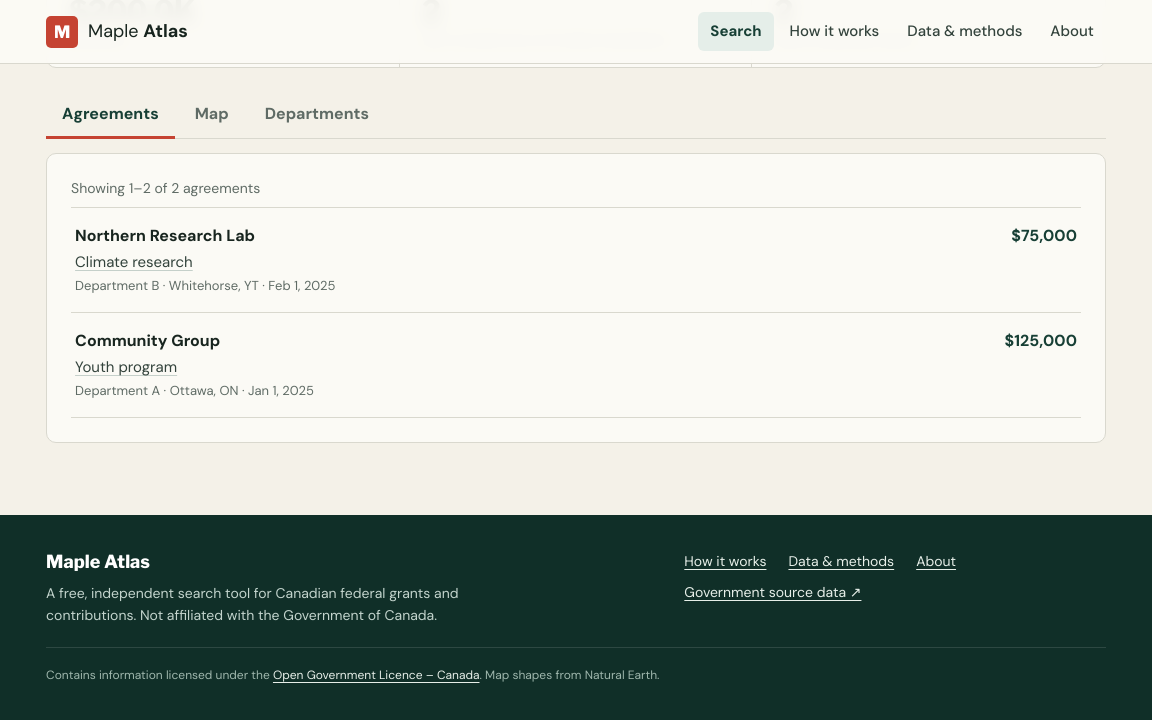
Test: App › opens the detail dialog and dismisses it with Escape
(page scrolled)
expect the text "Community Group" is shown: met, box [75, 330, 220, 351]
Click the button "Youth program": (194, 367) [75, 356, 314, 378]
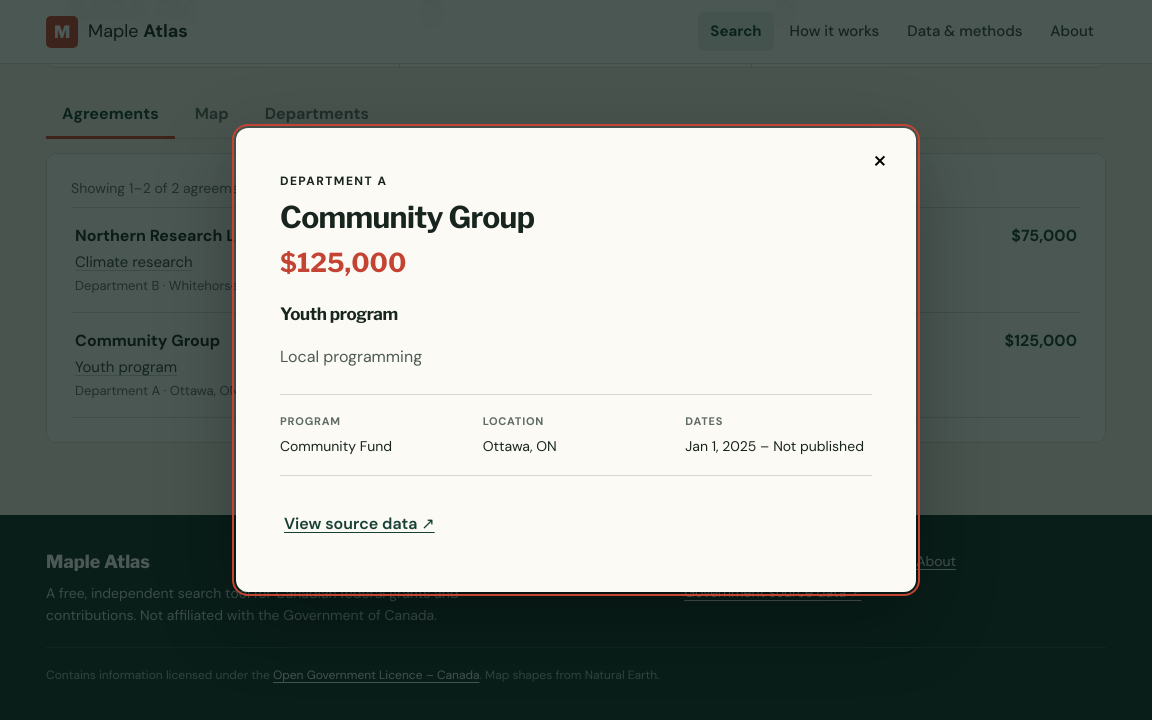
expect the text "Local programming" is shown: met, box [280, 346, 422, 367]
Press Escape in the dialog, box [236, 128, 916, 592]
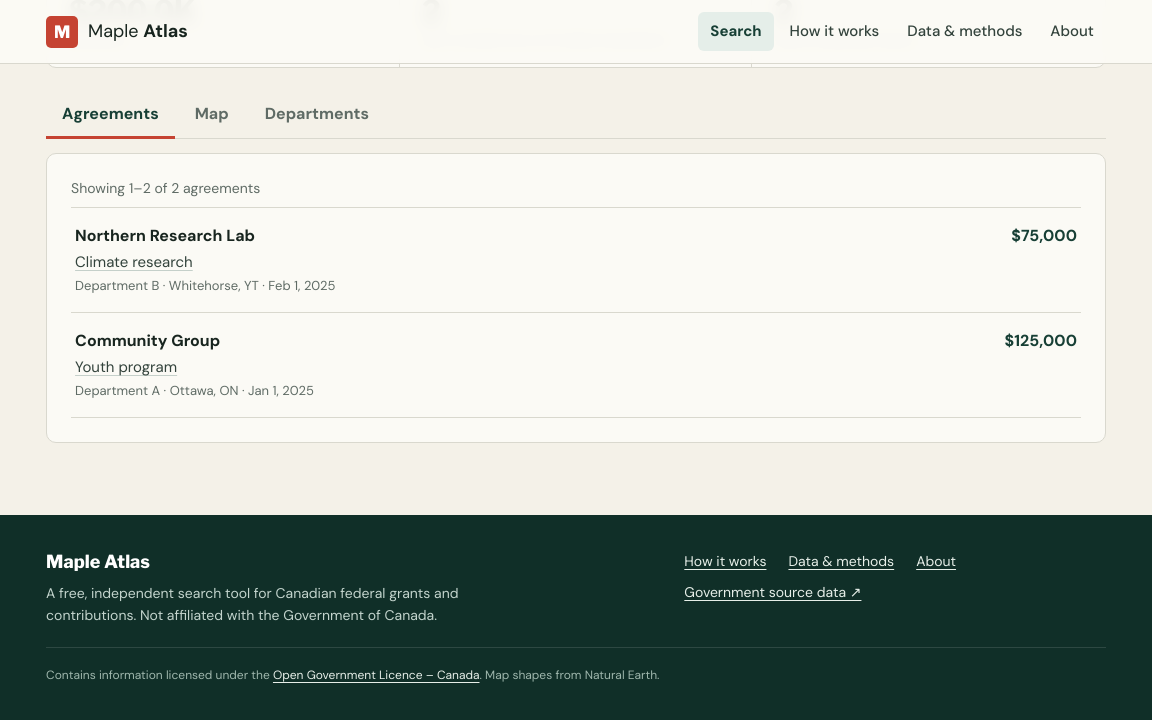
expect the dialog is gone: met
